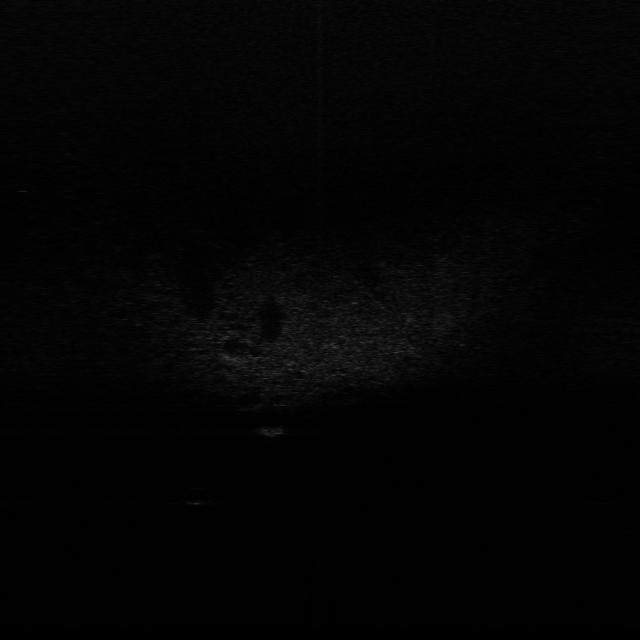ball: (179, 484, 217, 506)
cube: (254, 420, 288, 440)
